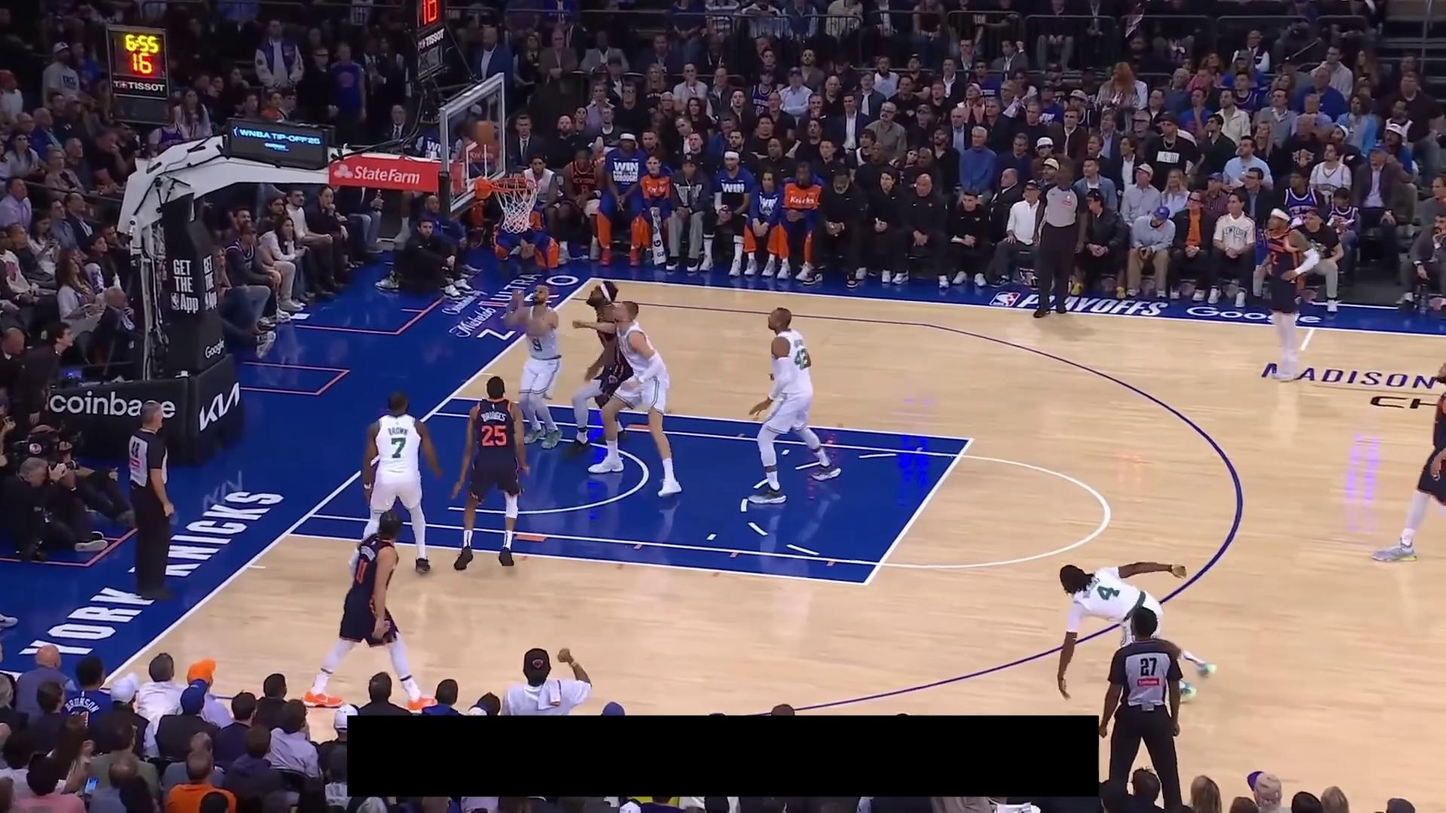ball: (474, 119, 496, 144)
number: (481, 424, 508, 447), (1096, 583, 1120, 601), (353, 558, 368, 585), (794, 347, 810, 370), (390, 437, 407, 458), (531, 336, 544, 352), (1271, 250, 1279, 265)
player: (302, 508, 435, 715), (1055, 558, 1217, 706), (572, 297, 684, 499), (745, 306, 843, 506), (357, 388, 444, 577), (1371, 356, 1446, 570), (450, 375, 531, 572), (1253, 204, 1322, 385), (565, 280, 634, 458), (502, 282, 566, 452)
referee: (1099, 607, 1185, 810), (126, 399, 178, 601), (1030, 160, 1089, 318)
rim: (490, 176, 537, 193)
